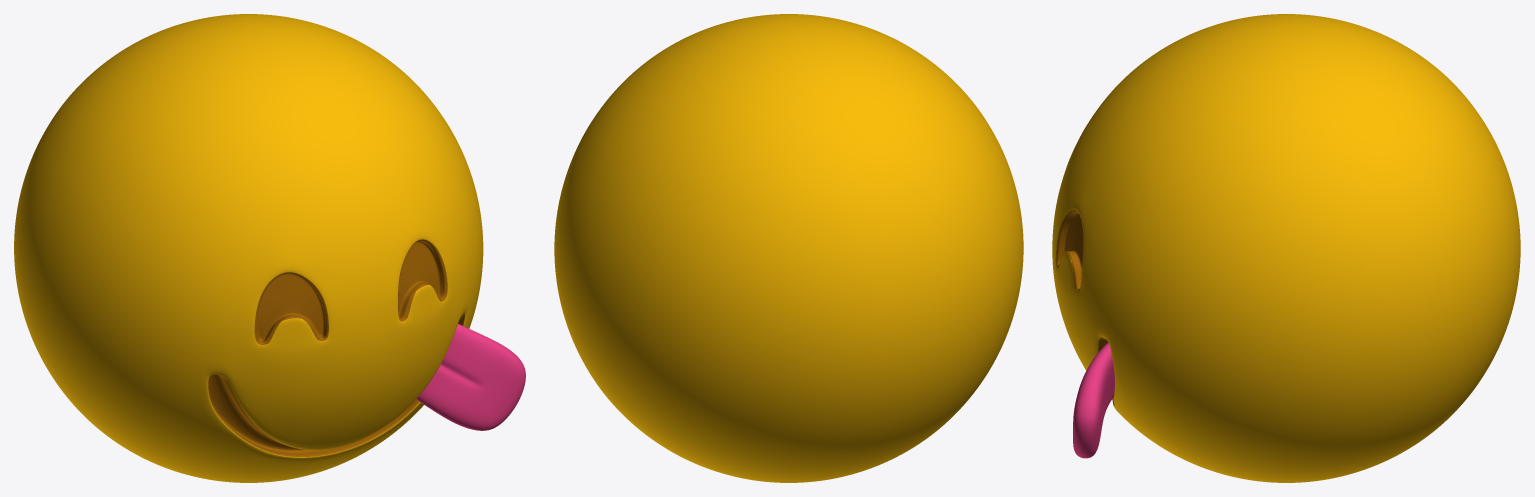
The model's file is looseTongue_emoji.glb.
The picture shows the model from 3 angles, left to right: view 1: azimuth 30°, elevation 25°; view 2: azimuth 150°, elevation 25°; view 3: azimuth 270°, elevation 25°; orthographic projection.
Visible parts, largest first — view 1: Apple Face Savoring Food; view 2: Apple Face Savoring Food; view 3: Apple Face Savoring Food.
Part boxes in pixels (x1,y1,x2,y2): Apple Face Savoring Food: (14, 14, 525, 482); Apple Face Savoring Food: (554, 14, 1023, 482); Apple Face Savoring Food: (1052, 14, 1520, 482).
Size of the model in its own units: 0.0253 by 0.0253 by 0.0253.
